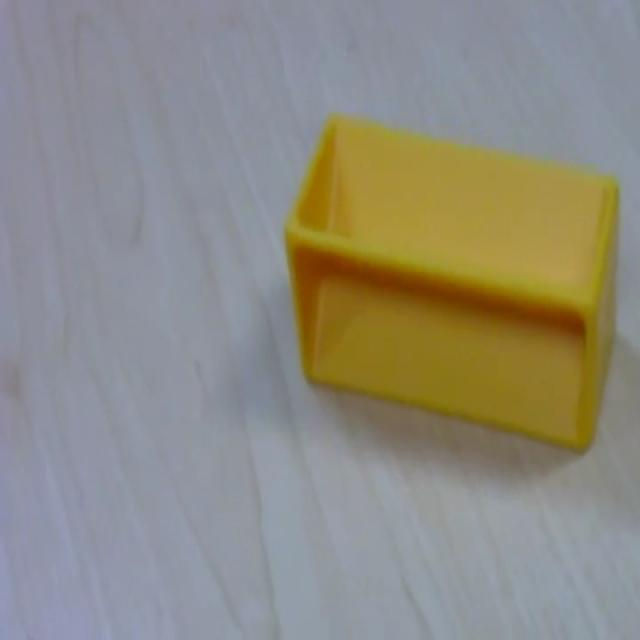yellow_block: (283, 110, 620, 453)
